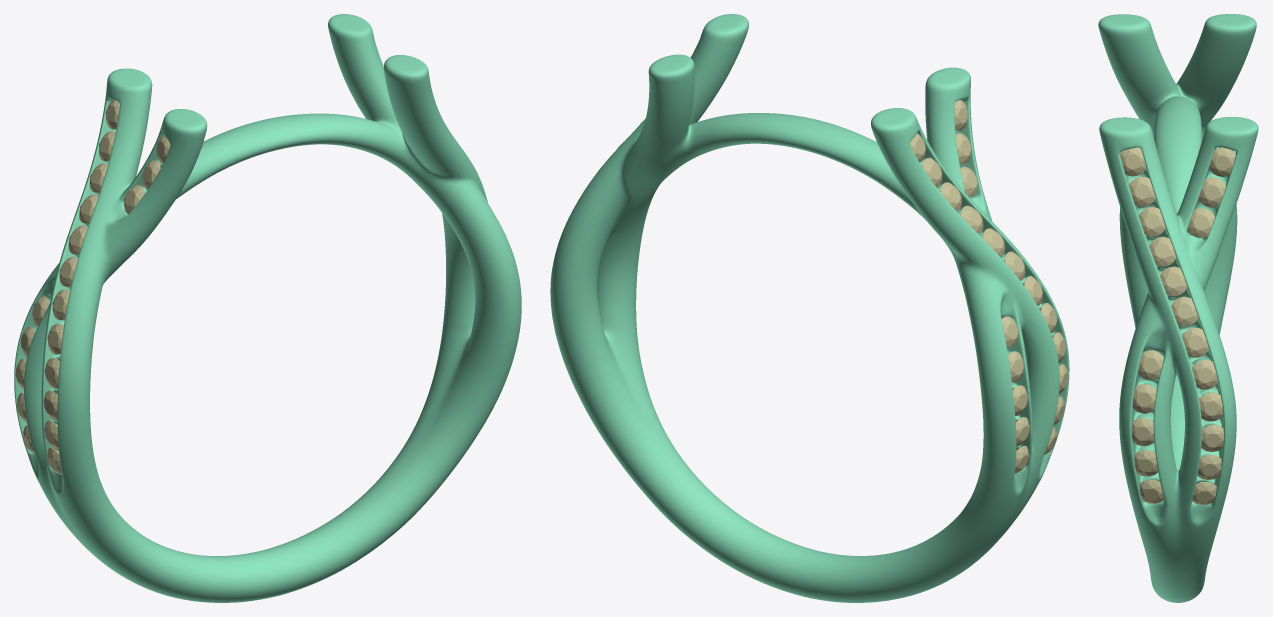
The picture shows the model from 3 angles, left to right: view 1: azimuth 30°, elevation 25°; view 2: azimuth 150°, elevation 25°; view 3: azimuth 270°, elevation 25°; orthographic projection. The views are drawn at different scales.
Parts seen in each view (by area): view 1: Metal02; view 2: Metal02; view 3: Metal02, Diamond_Gem.014, Diamond_Gem.015, Diamond_Gem.008, Diamond_Gem.029, Diamond_Gem.030, Diamond_Gem.033, Diamond_Gem.034, Diamond_Gem.032, Diamond_Gem.035, Diamond_Gem.031, Diamond_Gem.013 (+9 smaller).
Part boxes in pixels (<box>): Metal02: <box>14,14,521,602</box>; Metal02: <box>550,14,1069,602</box>; Metal02: <box>1098,14,1258,602</box>; Diamond_Gem.014: <box>1198,177,1225,207</box>; Diamond_Gem.015: <box>1187,208,1215,238</box>; Diamond_Gem.008: <box>1138,350,1163,380</box>; Diamond_Gem.029: <box>1128,177,1155,206</box>; Diamond_Gem.030: <box>1138,207,1165,236</box>; Diamond_Gem.033: <box>1171,297,1198,326</box>; Diamond_Gem.034: <box>1182,328,1208,357</box>; Diamond_Gem.032: <box>1160,266,1187,296</box>; Diamond_Gem.035: <box>1192,360,1217,389</box>; Diamond_Gem.031: <box>1149,237,1176,266</box>; Diamond_Gem.013: <box>1209,147,1235,176</box>.
Size of the model in its own units: 21.24 by 22.38 by 6.41.
